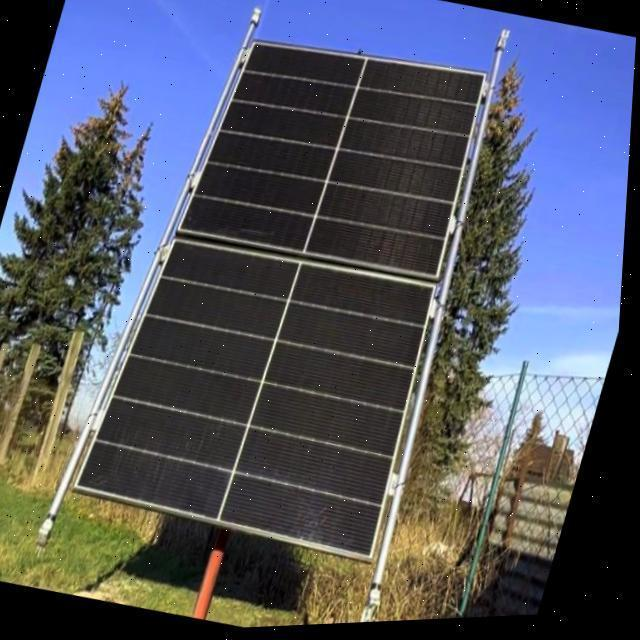Normal Solar Panel: (71, 12, 515, 576)
